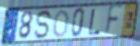0: (71, 7, 87, 38)
8: (18, 10, 34, 40)
F: (103, 3, 124, 38)
L: (87, 8, 102, 36)
O: (53, 9, 70, 38)
S: (34, 9, 54, 41)
